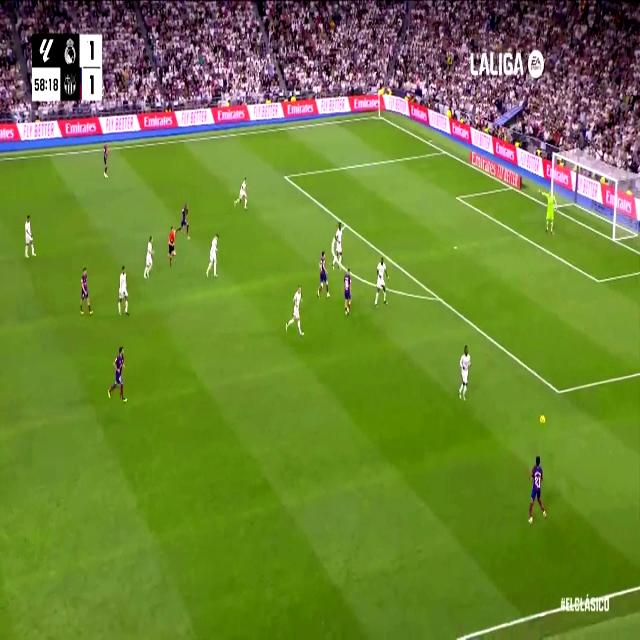bigarea_bottom_inner: (553, 378, 565, 404)
bigarea_top_inner: (282, 170, 288, 183)
bigarea_top_outter: (440, 144, 448, 157)
bottom_arc_area_intersection: (433, 288, 443, 307)
corner: (375, 111, 383, 120)
smallarea_bottom_inner: (594, 271, 602, 290)
smallarea_top_inner: (455, 192, 460, 202)
top_arc_area_intersection: (342, 216, 349, 230)
